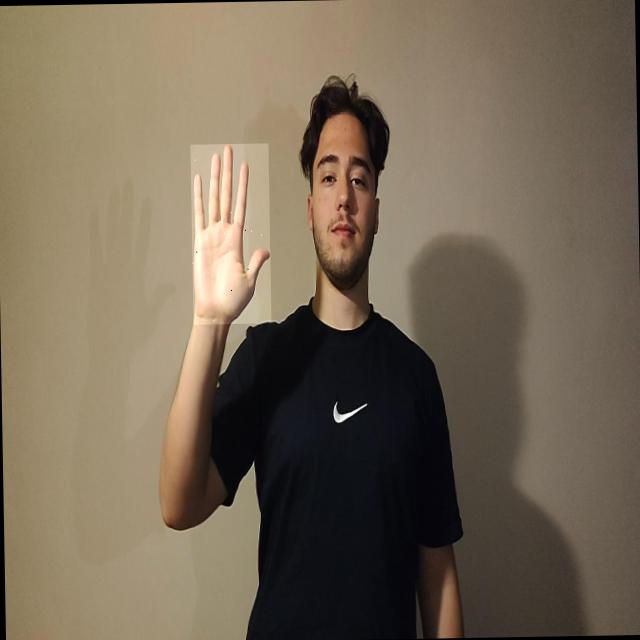hello: (190, 143, 271, 324)
